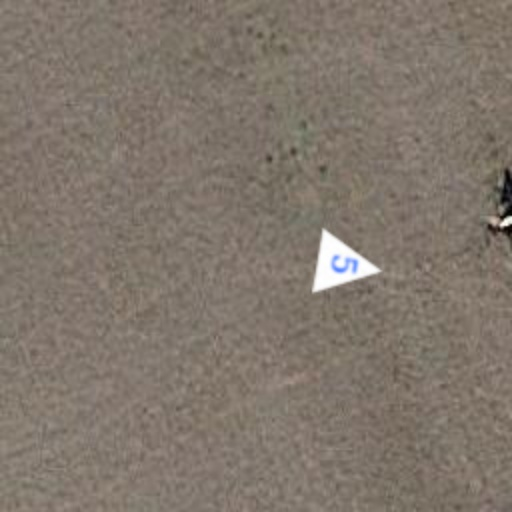triangle: (312, 228, 388, 304)
